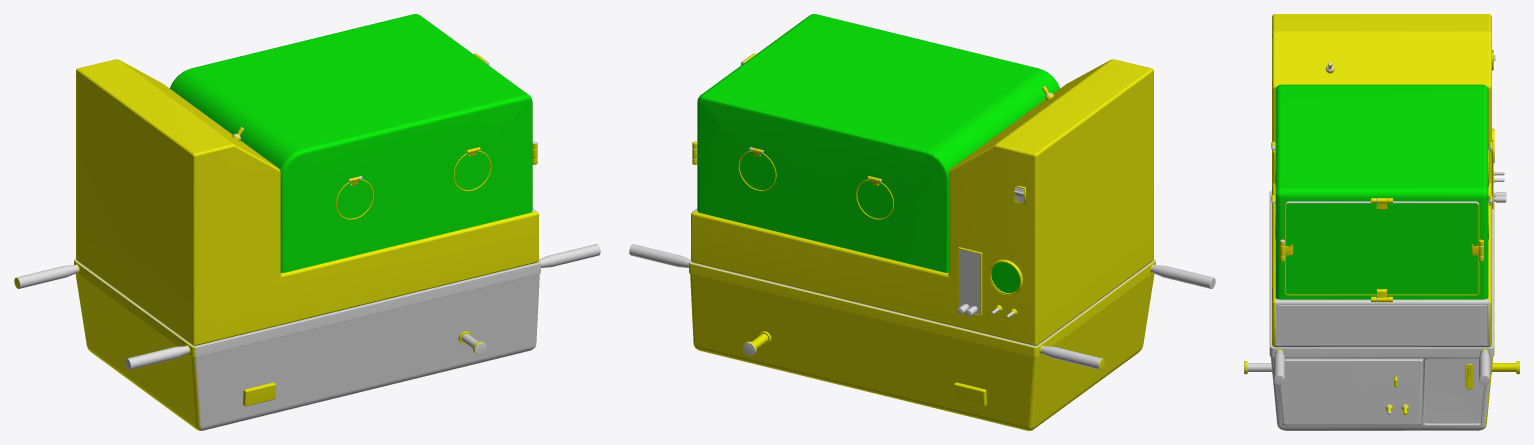
The model's file is Equipment_2.fbx.
3 views of the same model, side by side, from view 1: azimuth 30°, elevation 25°; view 2: azimuth 150°, elevation 25°; view 3: azimuth 270°, elevation 25° (orthographic). The views are drawn at different scales.
Visible parts, largest first — view 1: L:polySurface122; view 2: L:polySurface122; view 3: L:polySurface122.
Boxes of the visible parts, box(x1,y1,x2,y2) form: L:polySurface122: box(14, 14, 600, 430); L:polySurface122: box(629, 14, 1215, 430); L:polySurface122: box(1244, 14, 1519, 430).
Size of the model in its own units: 135 by 78.12 by 73.99.
